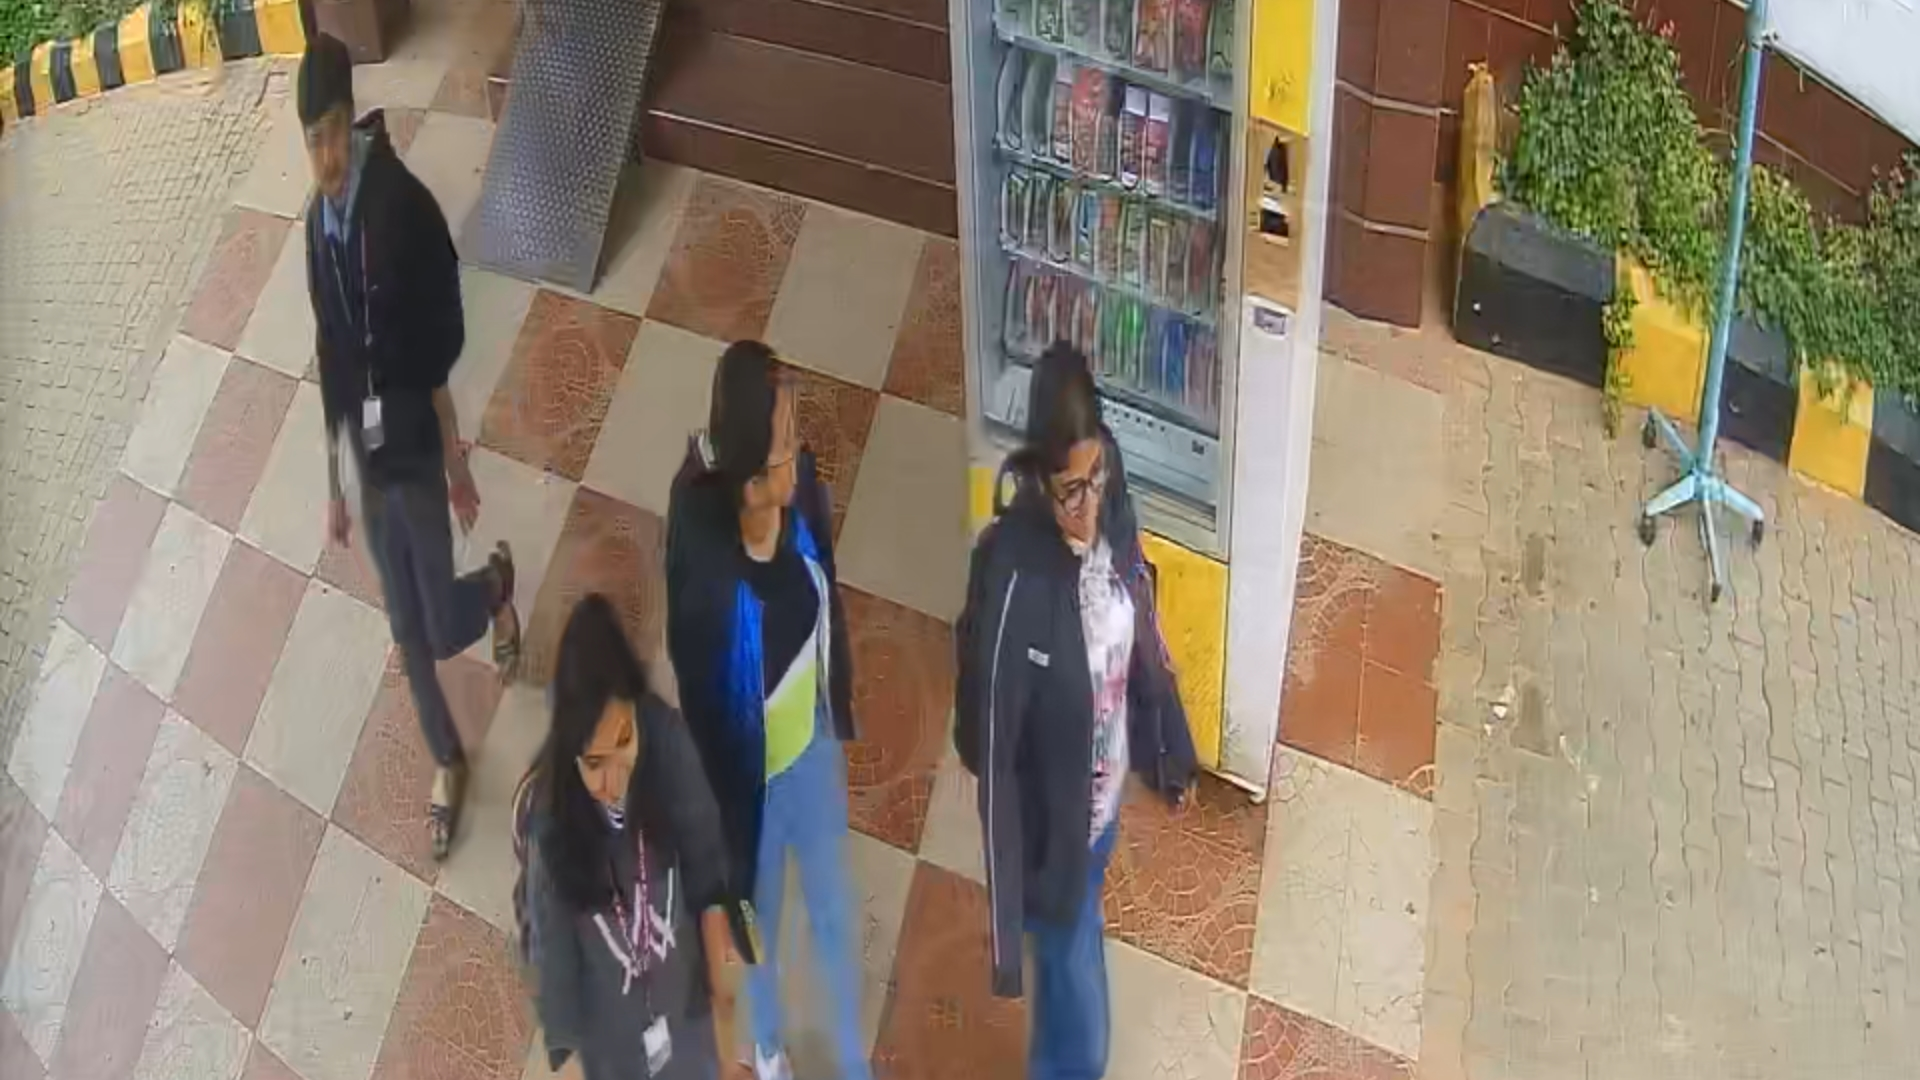intruder: (663, 327, 890, 1079), (980, 357, 1156, 1080)
not intruder: (278, 13, 521, 764), (512, 625, 721, 1080)
